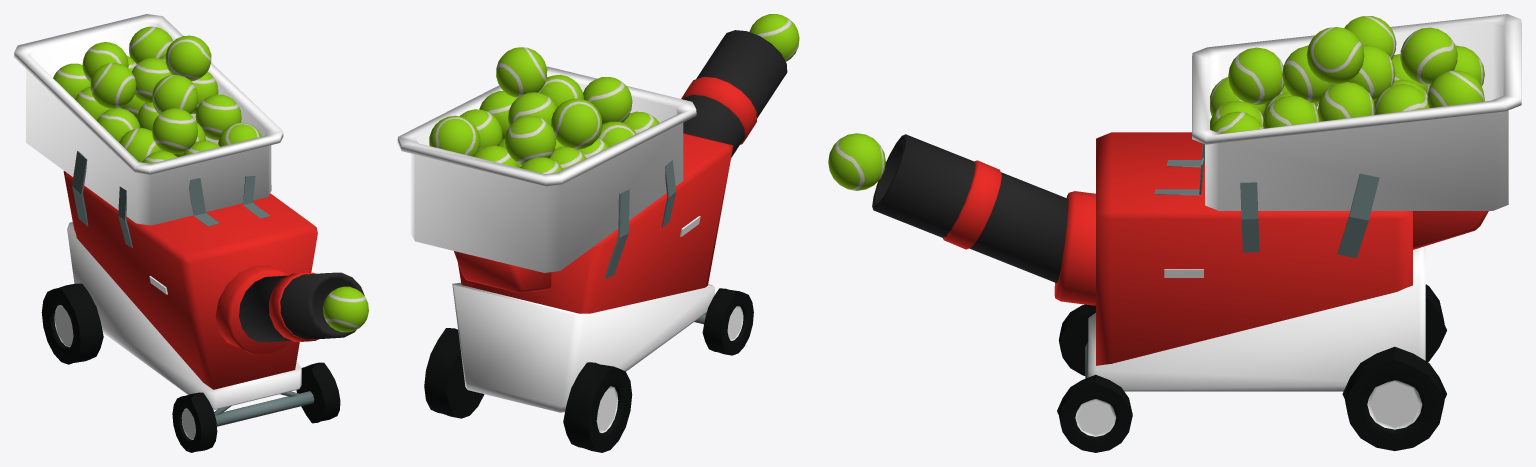
The model's file is ball launcher.fbx.
3 views of the same model, side by side, from view 1: azimuth 30°, elevation 25°; view 2: azimuth 150°, elevation 25°; view 3: azimuth 270°, elevation 25° (orthographic). The views are drawn at different scales.
Parts seen in each view (by area): view 1: Material_001-material.006, Material_001-material.007, Material_003-material.001, Material_001-material.009, Material_004-material, Material_004-material.020, Material_004-material.021, Material_004-material.007, Material_004-material.002, Material_004-material.014, Material_004-material.005, Material_004-material.013 (+8 smaller); view 2: Material_001-material.006, Material_001-material.007, Material_001-material.008, Material_003-material.001, Material_004-material.020, Material_004-material.007, Material_004-material.006, Material_004-material.021, Material_004-material.005, Material_004-material, Material_004-material.013, Material_004-material.004 (+7 smaller); view 3: Material_001-material.006, Material_001-material.008, Material_001-material.009, Material_004-material, Material_004-material.007, Material_004-material.021, Material_004-material.006, Material_004-material.003, Material_004-material.005, Material_003-material.001, Material_004-material.014, Material_004-material.013 (+7 smaller).
Part boxes in pixels (box(x1,y1,x2,y2)): Material_001-material.006: box(14, 14, 364, 426); Material_001-material.007: box(41, 283, 103, 364); Material_003-material.001: box(172, 392, 217, 452); Material_001-material.009: box(296, 362, 340, 423); Material_004-material: box(323, 286, 368, 332); Material_004-material.020: box(90, 63, 136, 108); Material_004-material.021: box(152, 108, 197, 153); Material_004-material.007: box(165, 35, 211, 81); Material_004-material.002: box(195, 94, 241, 140); Material_004-material.014: box(152, 75, 197, 114); Material_004-material.005: box(129, 26, 173, 63); Material_004-material.013: box(132, 58, 171, 102); Material_001-material.006: box(397, 30, 787, 412); Material_001-material.007: box(563, 362, 632, 452); Material_001-material.008: box(424, 328, 484, 418); Material_003-material.001: box(702, 288, 753, 355); Material_004-material.020: box(551, 98, 602, 149); Material_004-material.007: box(496, 47, 547, 97); Material_004-material.006: box(505, 115, 556, 164); Material_004-material.021: box(583, 77, 632, 124); Material_004-material.005: box(429, 115, 480, 156); Material_004-material: box(749, 14, 799, 61); Material_004-material.013: box(508, 92, 556, 126); Material_004-material.004: box(460, 109, 502, 149); Material_001-material.006: box(872, 14, 1521, 391); Material_001-material.008: box(1342, 346, 1446, 450); Material_001-material.009: box(1057, 374, 1132, 452); Material_004-material: box(828, 133, 885, 190); Material_004-material.007: box(1306, 27, 1364, 84); Material_004-material.021: box(1228, 47, 1284, 105); Material_004-material.006: box(1400, 27, 1457, 84); Material_004-material.003: box(1317, 82, 1374, 121); Material_004-material.005: box(1427, 70, 1484, 108); Material_003-material.001: box(1058, 304, 1095, 375); Material_004-material.014: box(1282, 45, 1334, 102); Material_004-material.013: box(1347, 44, 1395, 100).
Bounding box in the file's own units: 160 × 329 × 515.
7 materials, 1 textured.
